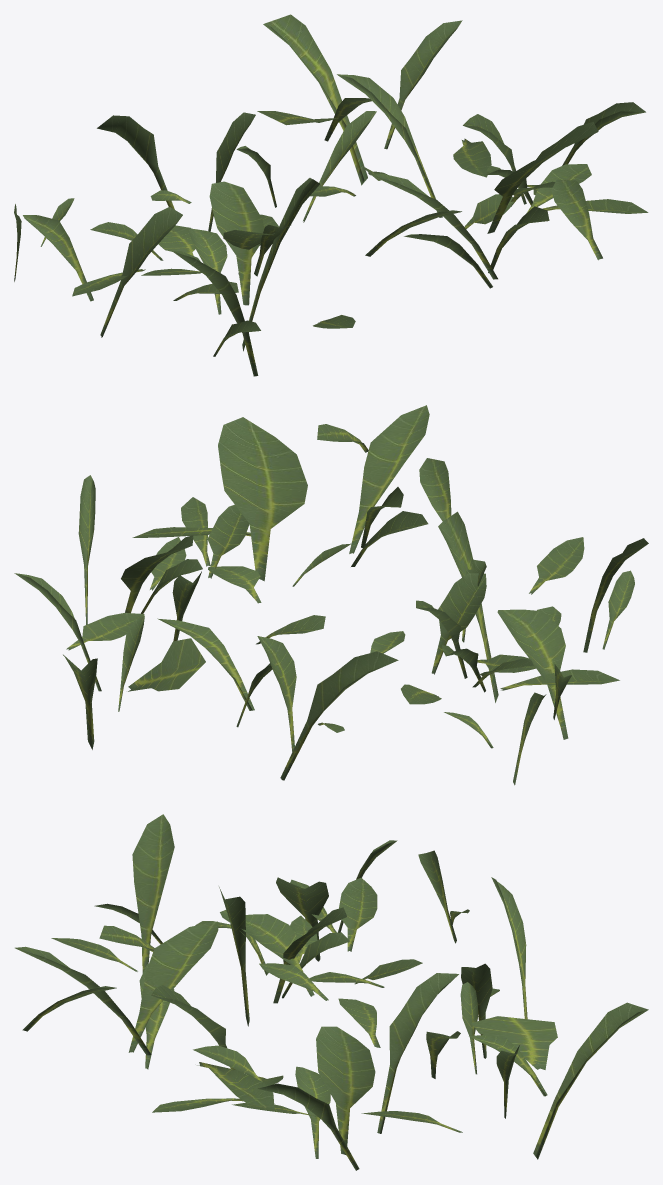
Rendered from weed_02_001_lod1.gltf.
The picture shows the model from 3 angles, top to bottom: view 1: azimuth 30°, elevation 25°; view 2: azimuth 150°, elevation 25°; view 3: azimuth 270°, elevation 25°; orthographic projection.
Parts seen in each view (by area): view 1: weed 02.001; view 2: weed 02.001; view 3: weed 02.001.
Boxes of the visible parts, x1,y1,x2,y2 form: weed 02.001: (14, 14, 648, 376); weed 02.001: (14, 405, 648, 785); weed 02.001: (15, 814, 648, 1170).
Size of the model in its own units: 0.3643 by 0.1165 by 0.3628.
